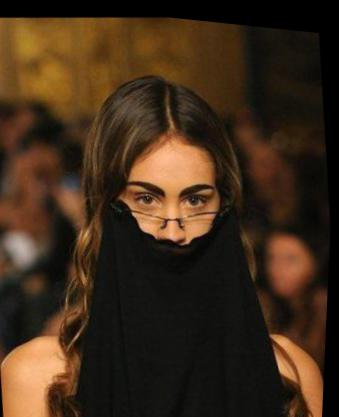WRONG: (108, 151, 242, 290)
